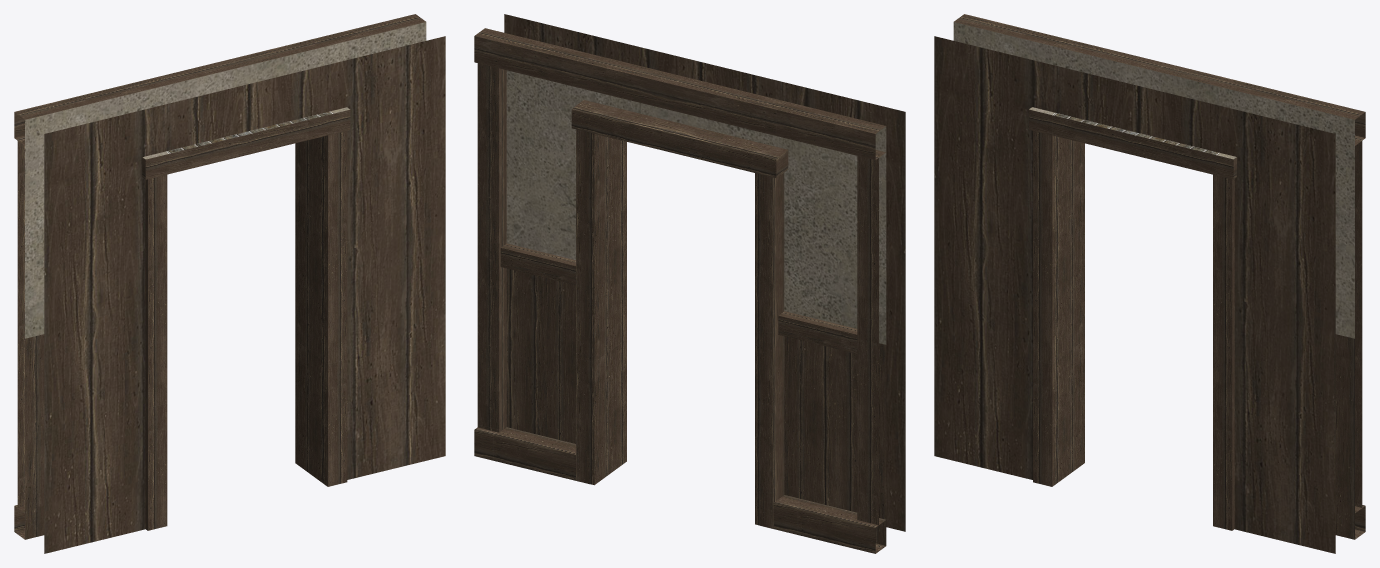
File: ARC1010322.fbx
The picture shows the model from 3 angles, left to right: view 1: azimuth 30°, elevation 25°; view 2: azimuth 150°, elevation 25°; view 3: azimuth 330°, elevation 25°; orthographic projection.
Visible parts, largest first — view 1: smARC1010322; view 2: smARC1010322; view 3: smARC1010322.
Part boxes in pixels (x1=…): smARC1010322: x1=14, y1=14, x2=445, y2=553; smARC1010322: x1=474, y1=14, x2=905, y2=553; smARC1010322: x1=934, y1=14, x2=1365, y2=553.
Bounding box in the file's own units: 268 × 268 × 40.27.
1 material, 1 textured.
